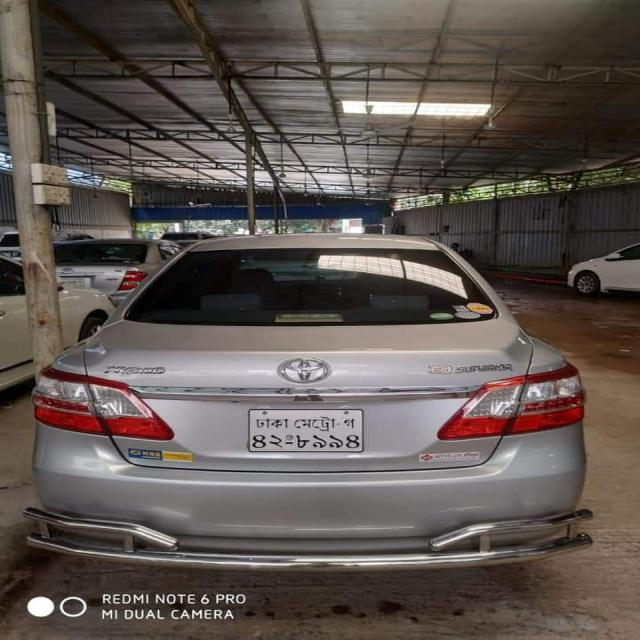silver: (31, 238, 588, 575), (41, 230, 183, 294)
white: (0, 255, 112, 378), (560, 232, 640, 295)
